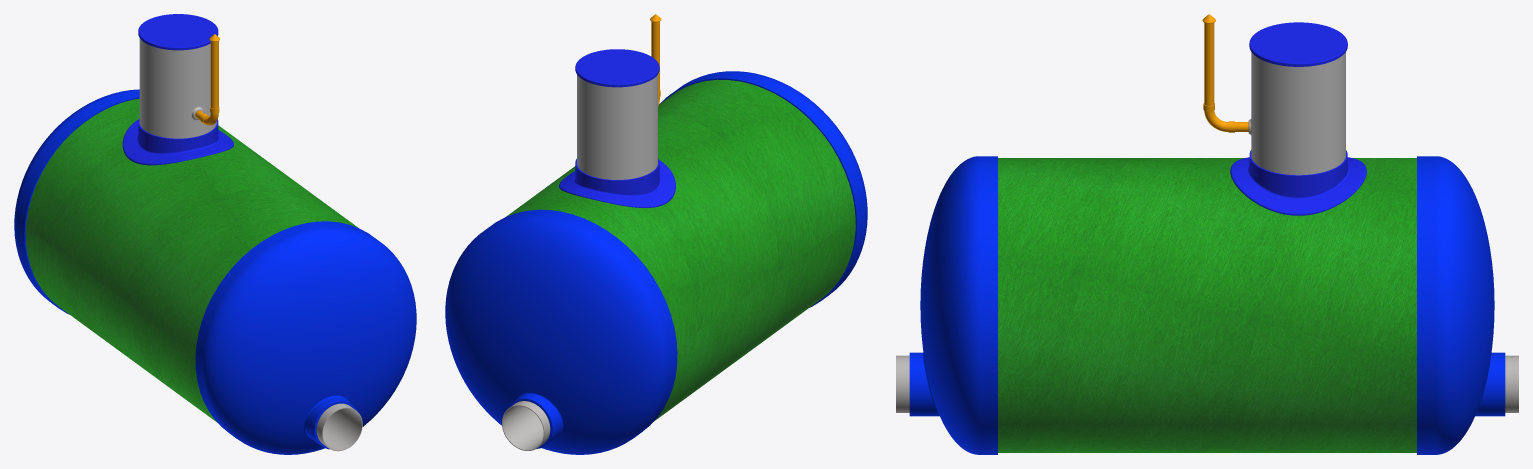
The picture shows the model from 3 angles, left to right: view 1: azimuth 30°, elevation 25°; view 2: azimuth 150°, elevation 25°; view 3: azimuth 270°, elevation 25°; orthographic projection. The views are drawn at different scales.
Parts seen in each view (by area): view 1: Твердое тело1 (×6), Solid1 (×2); view 2: Твердое тело1 (×6), Solid1; view 3: Твердое тело1 (×6), Solid1 (×3).
Boxes of the visible parts, x1,y1,x2,y2 form: Твердое тело1 (×6): [14, 14, 416, 454]; Solid1 (×2): [210, 41, 362, 451]; Твердое тело1 (×6): [445, 49, 867, 454]; Solid1: [502, 401, 550, 450]; Твердое тело1 (×6): [909, 22, 1505, 454]; Solid1 (×3): [896, 23, 1518, 412].
Bounding box in the file's own units: 3.28 × 5.17 × 6.83.
Materials: 8 (1 with a texture image).
